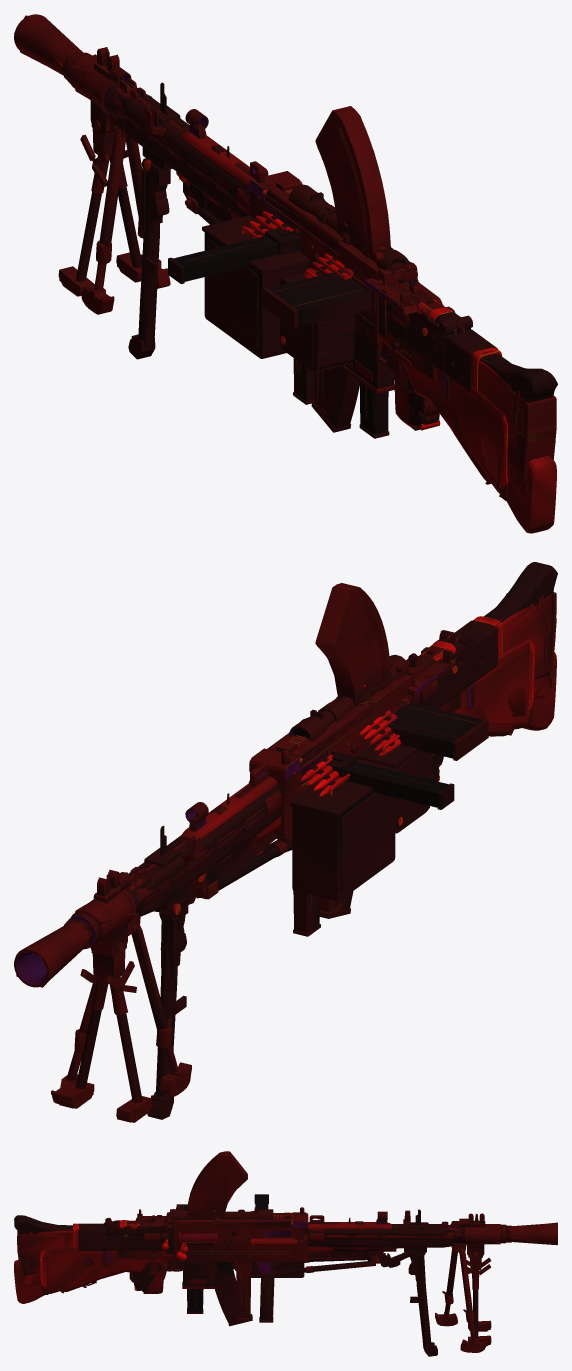
Rendered from weapons.glb.
3 renders of one model, top to bottom at view 1: azimuth 30°, elevation 25°; view 2: azimuth 150°, elevation 25°; view 3: azimuth 270°, elevation 25°, orthographic. The views are drawn at different scales.
Visible parts, largest first — view 1: m1919a6.body.mesh, mg42.body.mesh, m1919a6.mag.mesh, bren.body.mesh, bren.mag.mesh, mg42.lod.mesh, fg42.mag.mesh, mg42.mag.mesh, bar.body.mesh, m1919a6.lod.mesh, sten.mag.mesh, lee_enfield.body.mesh (+17 smaller); view 2: m1919a6.body.mesh, mg42.body.mesh, m1919a6.mag.mesh, bren.mag.mesh, bren.body.mesh, mg42.lod.mesh, m1919a6.lod.mesh, fg42.mag.mesh, bar.body.mesh, mg42.mag.mesh, sten.mag.mesh, lee_enfield.body.mesh (+10 smaller); view 3: m1919a6.body.mesh, mg42.body.mesh, bren.body.mesh, bren.mag.mesh, mg42.lod.mesh, bar.body.mesh, m1919a6.lod.mesh, lee_enfield.body.mesh, stg44.mag.mesh, bren.lod.mesh, g43.body.mesh, m1garand.body.mesh (+18 smaller).
Boxes of the visible parts, bbox=[...] form: m1919a6.body.mesh: bbox=[14, 14, 508, 384]; mg42.body.mesh: bbox=[104, 82, 557, 430]; m1919a6.mag.mesh: bbox=[202, 211, 309, 358]; bren.body.mesh: bbox=[145, 108, 556, 483]; bren.mag.mesh: bbox=[315, 107, 390, 260]; mg42.lod.mesh: bbox=[104, 84, 557, 430]; fg42.mag.mesh: bbox=[262, 272, 371, 329]; mg42.mag.mesh: bbox=[280, 253, 355, 372]; bar.body.mesh: bbox=[81, 87, 527, 497]; m1919a6.lod.mesh: bbox=[14, 15, 507, 379]; sten.mag.mesh: bbox=[168, 236, 278, 283]; lee_enfield.body.mesh: bbox=[119, 78, 504, 493]; m1919a6.body.mesh: bbox=[14, 593, 529, 1122]; mg42.body.mesh: bbox=[126, 562, 557, 1119]; m1919a6.mag.mesh: bbox=[290, 754, 397, 901]; bren.mag.mesh: bbox=[315, 583, 390, 706]; bren.body.mesh: bbox=[181, 592, 556, 899]; mg42.lod.mesh: bbox=[124, 562, 557, 1119]; m1919a6.lod.mesh: bbox=[16, 672, 411, 1122]; fg42.mag.mesh: bbox=[386, 702, 488, 760]; bar.body.mesh: bbox=[51, 606, 551, 1103]; mg42.mag.mesh: bbox=[357, 710, 431, 832]; sten.mag.mesh: bbox=[344, 761, 454, 809]; lee_enfield.body.mesh: bbox=[125, 649, 532, 887]; m1919a6.body.mesh: bbox=[42, 1206, 557, 1346]; mg42.body.mesh: bbox=[14, 1207, 463, 1356]; bren.body.mesh: bbox=[17, 1209, 410, 1293]; bren.mag.mesh: bbox=[187, 1151, 247, 1219]; mg42.lod.mesh: bbox=[14, 1207, 463, 1356]; bar.body.mesh: bbox=[20, 1220, 487, 1352]; m1919a6.lod.mesh: bbox=[167, 1207, 557, 1344]; lee_enfield.body.mesh: bbox=[42, 1221, 459, 1293]; stg44.mag.mesh: bbox=[215, 1262, 252, 1326]; bren.lod.mesh: bbox=[17, 1151, 409, 1293]; g43.body.mesh: bbox=[40, 1218, 469, 1288]; m1garand.body.mesh: bbox=[45, 1222, 455, 1293].
Size of the model in its own units: 0.2931 by 0.587 by 1.42.
16 materials, 15 textured.
